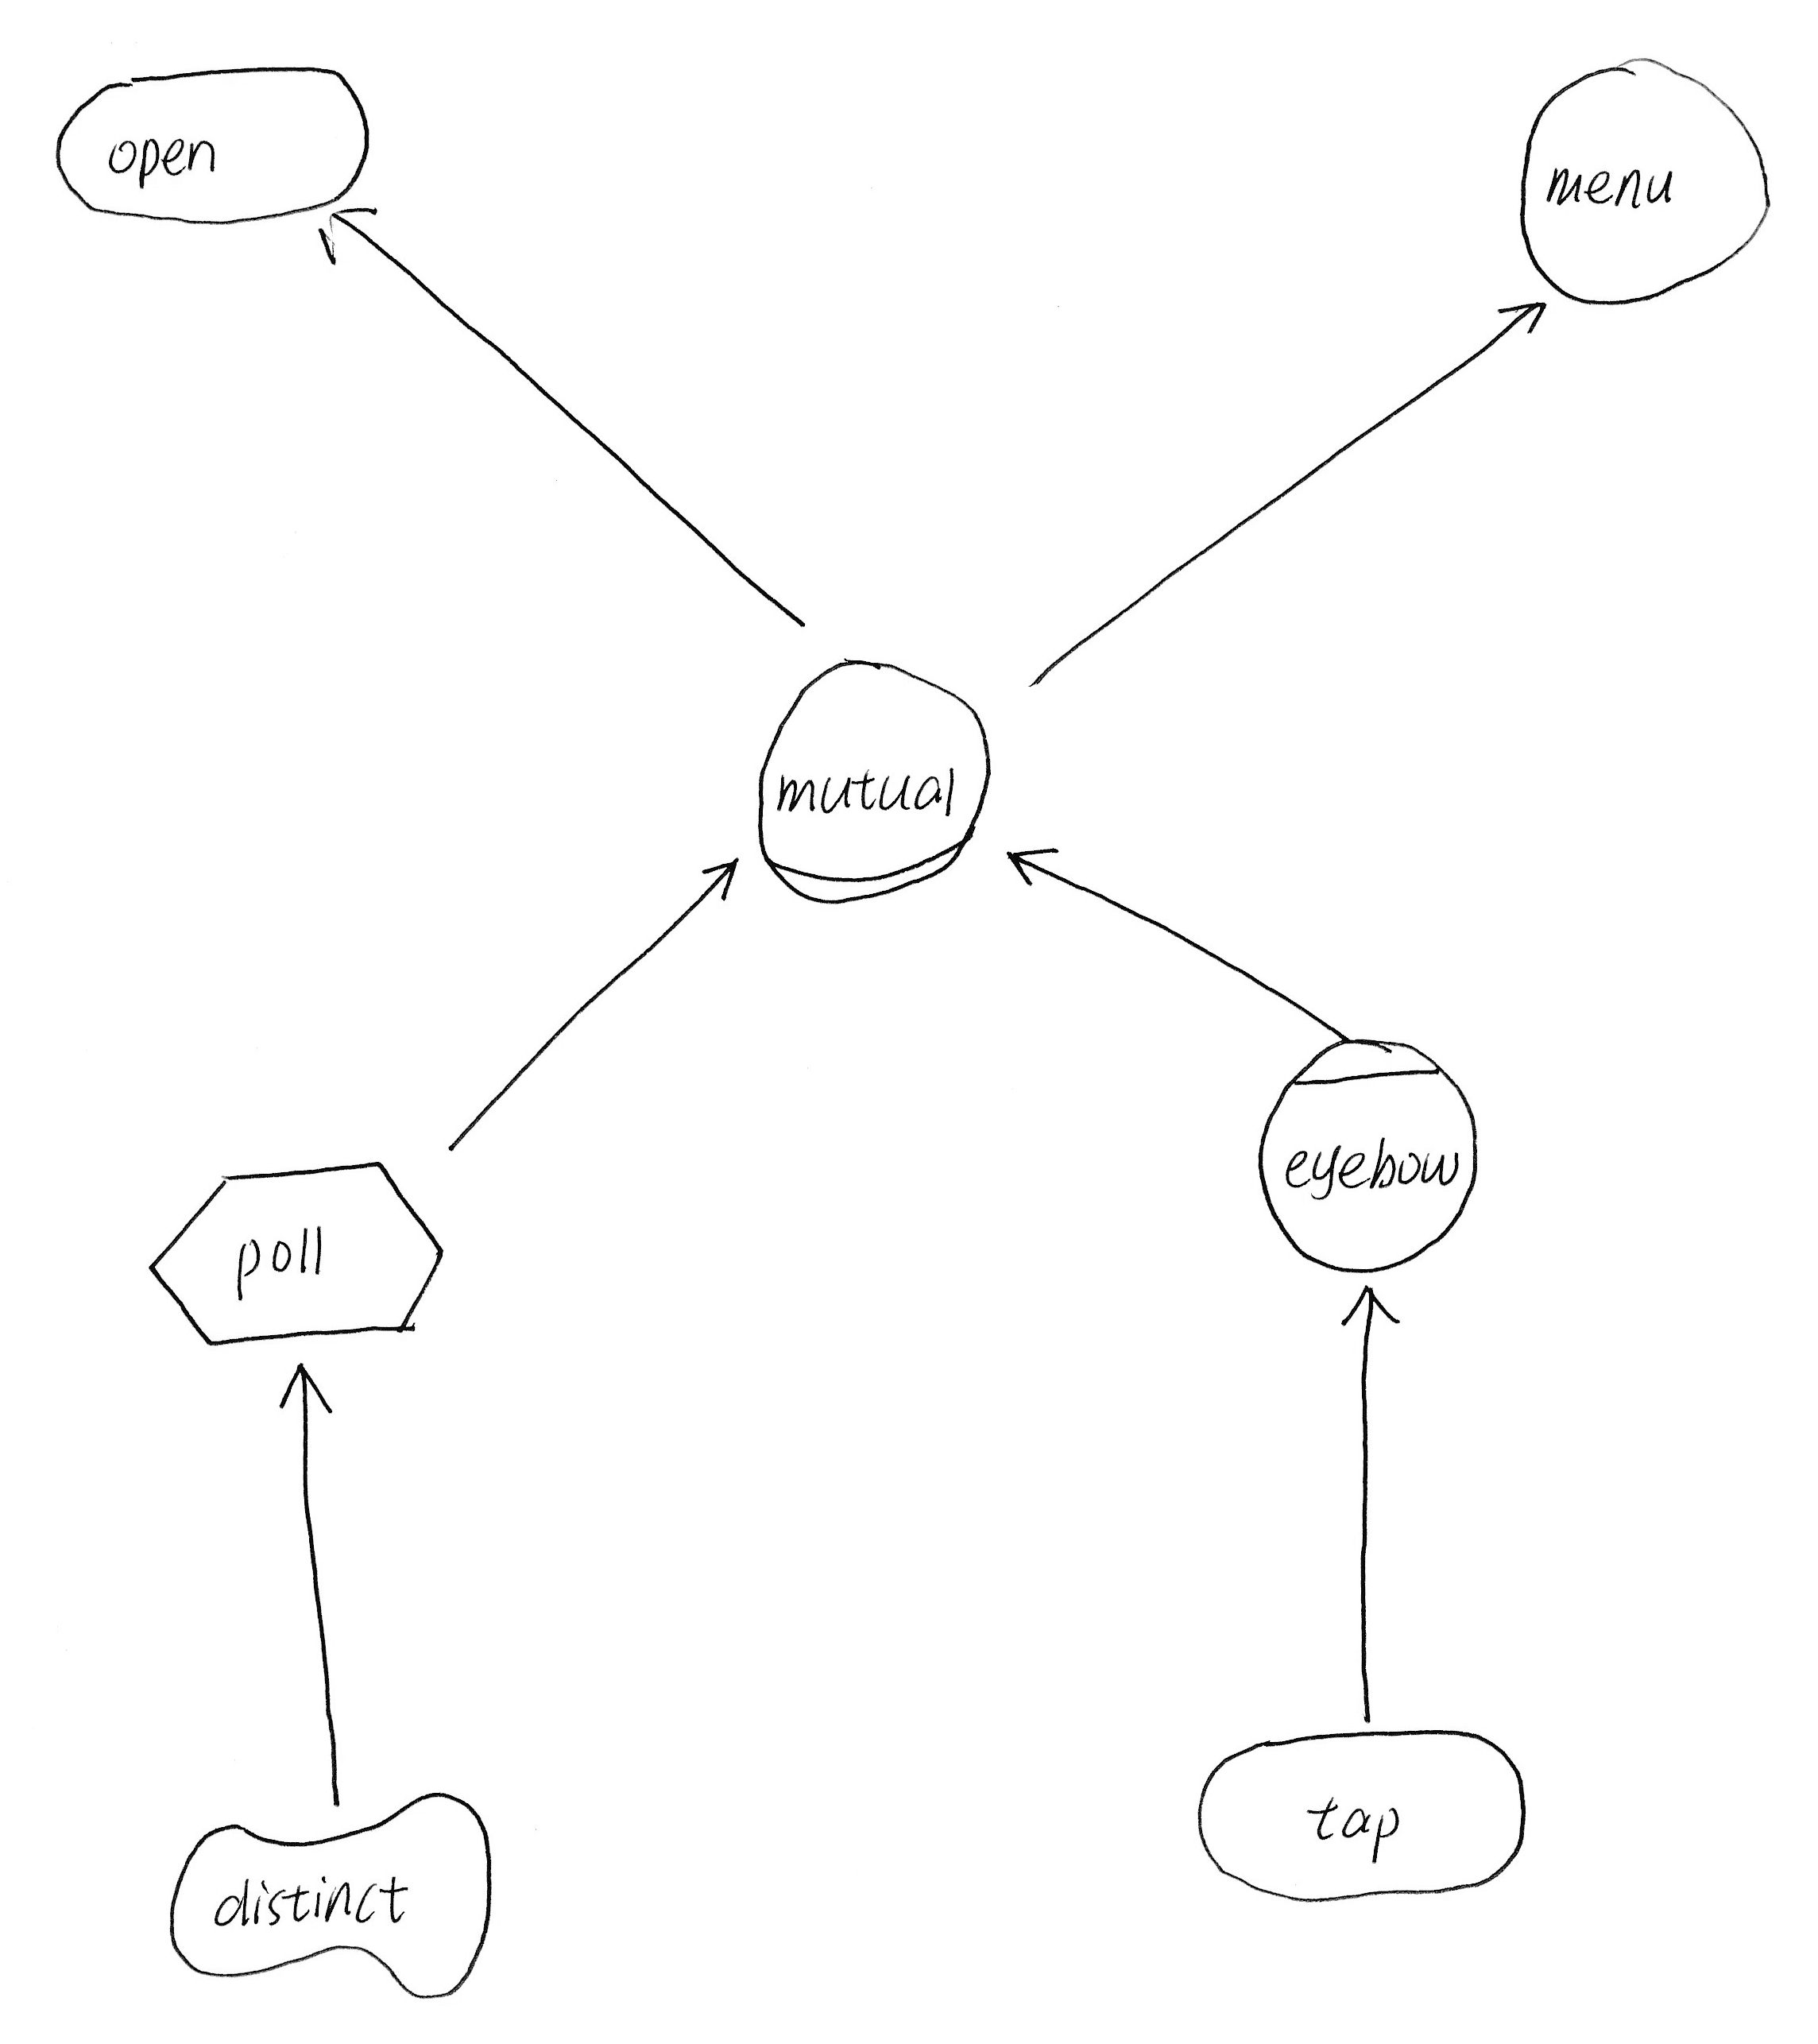actor: (1502, 42, 1793, 326)
agent: (1241, 1018, 1495, 1283)
arrow: (304, 195, 398, 270), (268, 1349, 347, 1428), (993, 828, 1070, 898), (684, 844, 756, 916), (1488, 282, 1564, 351), (1335, 1272, 1406, 1344)
goal: (1185, 1712, 1553, 1916), (32, 51, 384, 242)
quality: (154, 1770, 511, 2012)
role: (741, 637, 1006, 923)
task: (126, 1147, 460, 1370)
